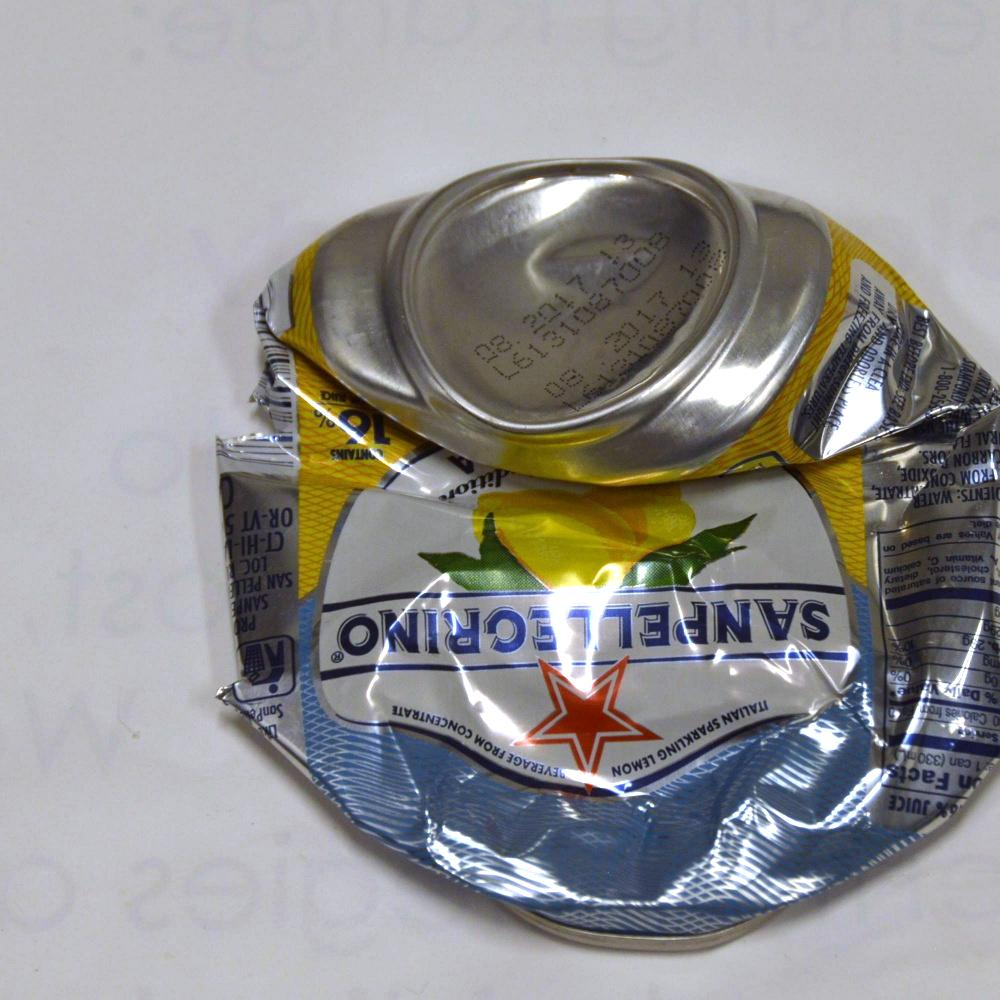Metal: (123, 122, 925, 937)
